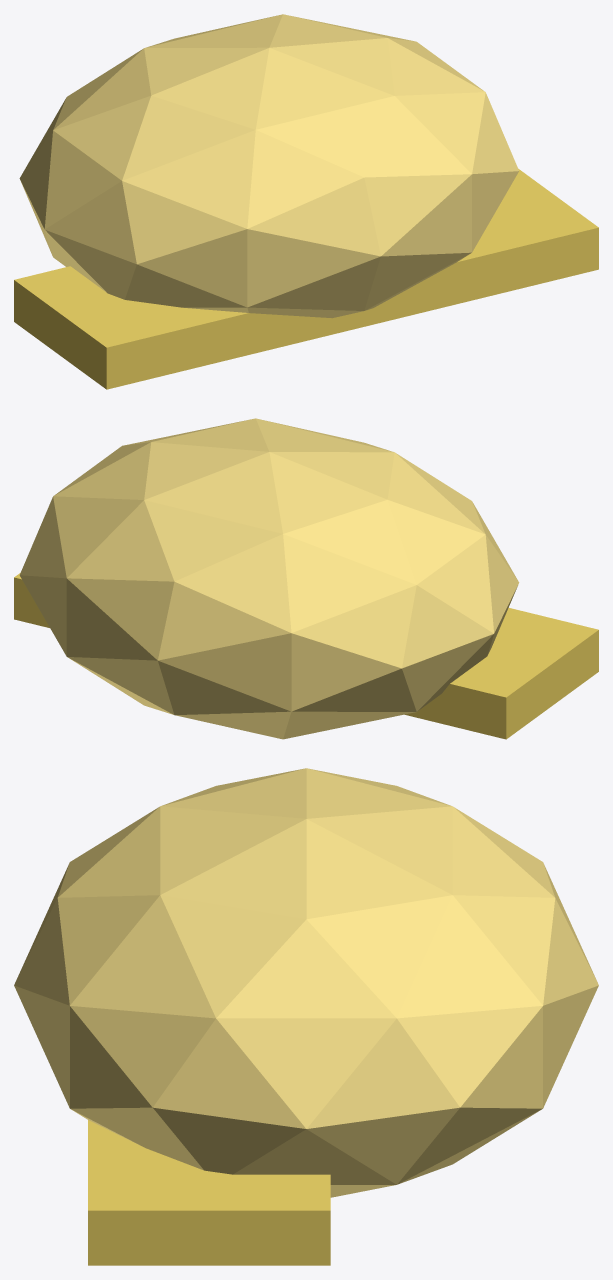
Rendered from helmet_lod0.glb.
3 views of the same model, one above another, from view 1: azimuth 30°, elevation 25°; view 2: azimuth 150°, elevation 25°; view 3: azimuth 270°, elevation 25° (orthographic). The views are drawn at different scales.
Parts seen in each view (by area): view 1: helmet-shell, helmet-brim; view 2: helmet-shell, helmet-brim; view 3: helmet-shell, helmet-brim.
Boxes of the visible parts, x1,y1,x2,y2 form: helmet-shell: (19,14,518,318); helmet-brim: (14,169,598,389); helmet-shell: (19,418,519,739); helmet-brim: (14,573,598,739); helmet-shell: (14,768,598,1197); helmet-brim: (88,1120,330,1265).
Size of the model in its own units: 0.92 by 0.4536 by 0.7224.
